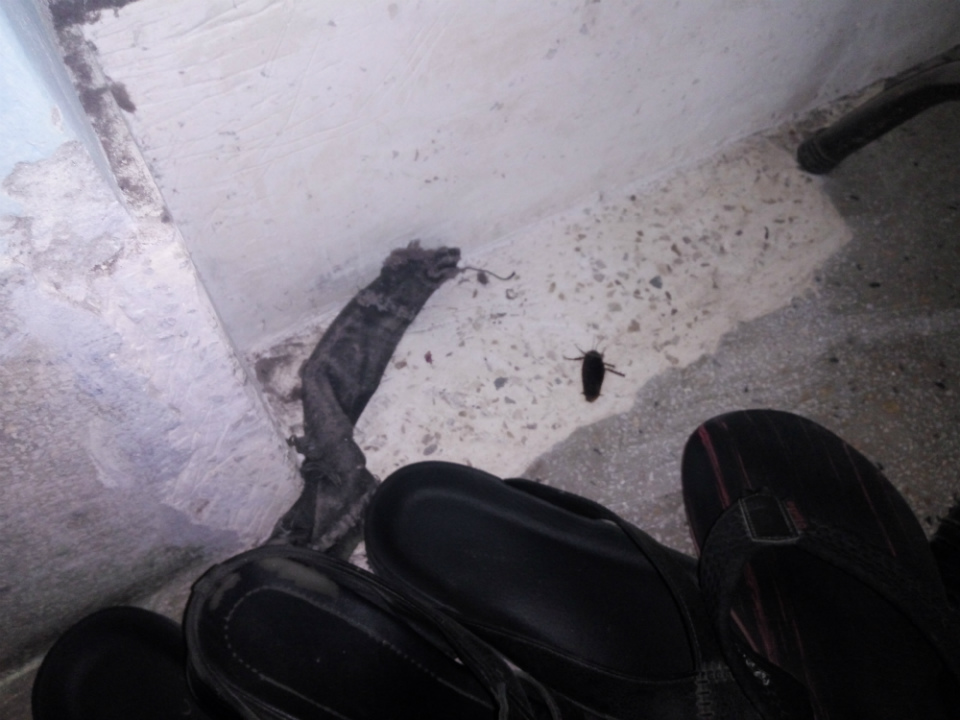cockroach: (504, 317, 640, 413)
